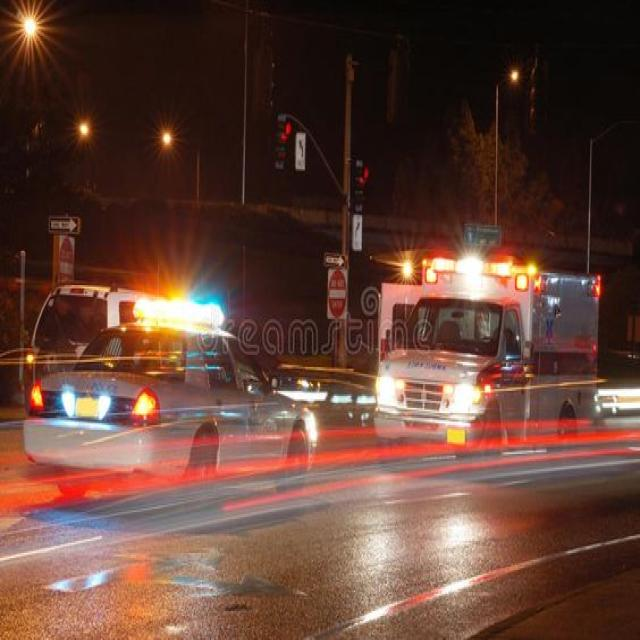ambulance: (416, 249, 616, 344), (126, 282, 235, 351)
